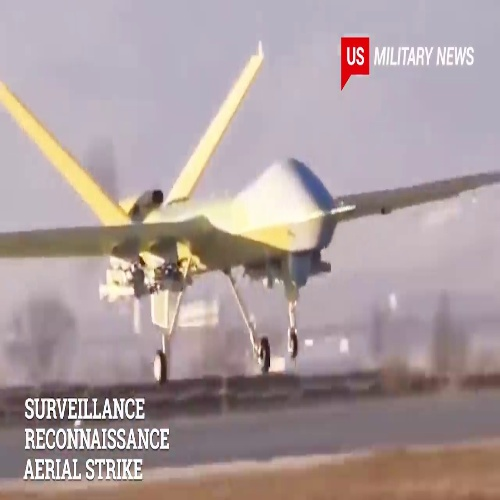uav: (2, 45, 500, 374)
